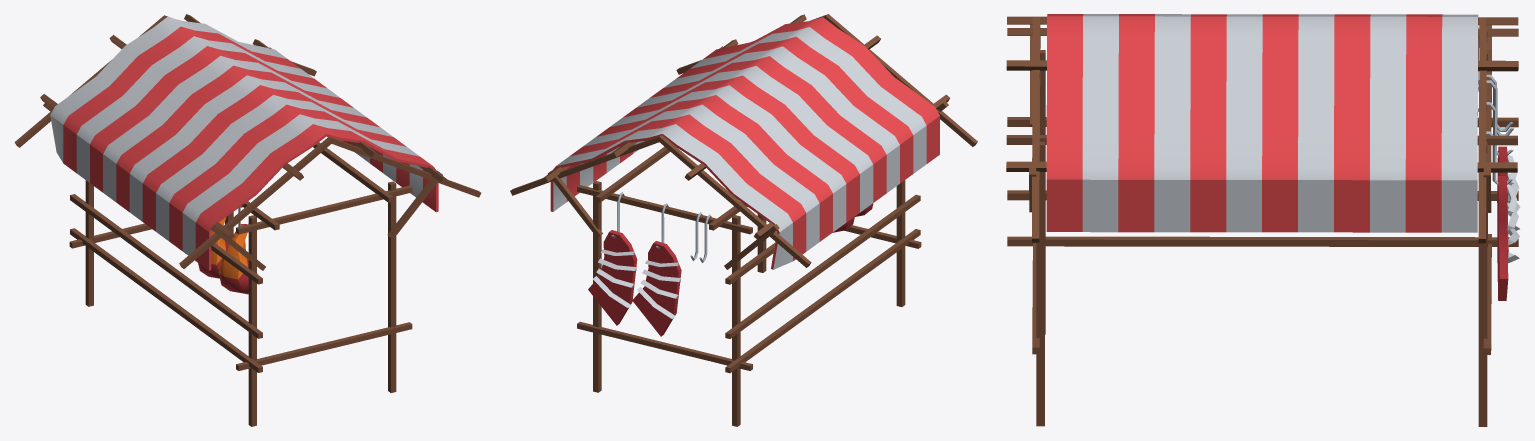
File: barraca_feira_pacote.glb
3 views of the same model, side by side, from view 1: azimuth 30°, elevation 25°; view 2: azimuth 150°, elevation 25°; view 3: azimuth 270°, elevation 25° (orthographic). The views are drawn at different scales.
Visible parts, largest first — view 1: barraca_feira_pacote; view 2: barraca_feira_pacote; view 3: barraca_feira_pacote.
Part boxes in pixels (x1,y1,x2,y2): barraca_feira_pacote: (14,14,481,426); barraca_feira_pacote: (510,14,977,426); barraca_feira_pacote: (1006,14,1520,426).
Size of the model in its own units: 3.27 by 2.83 by 3.6.
Materials: 1 (1 with a texture image).
